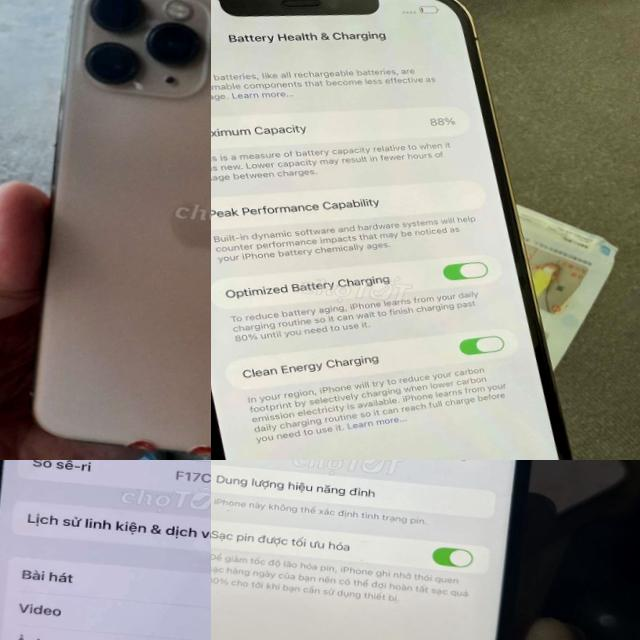gen_11: (4, 0, 211, 460), (211, 460, 556, 640), (0, 460, 211, 640)
gen_12_13: (211, 0, 627, 460)
